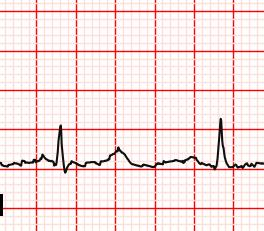LVH: (100, 144, 142, 177)
